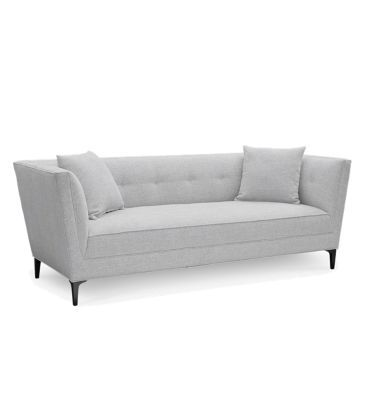chairs: (14, 149, 352, 309)
